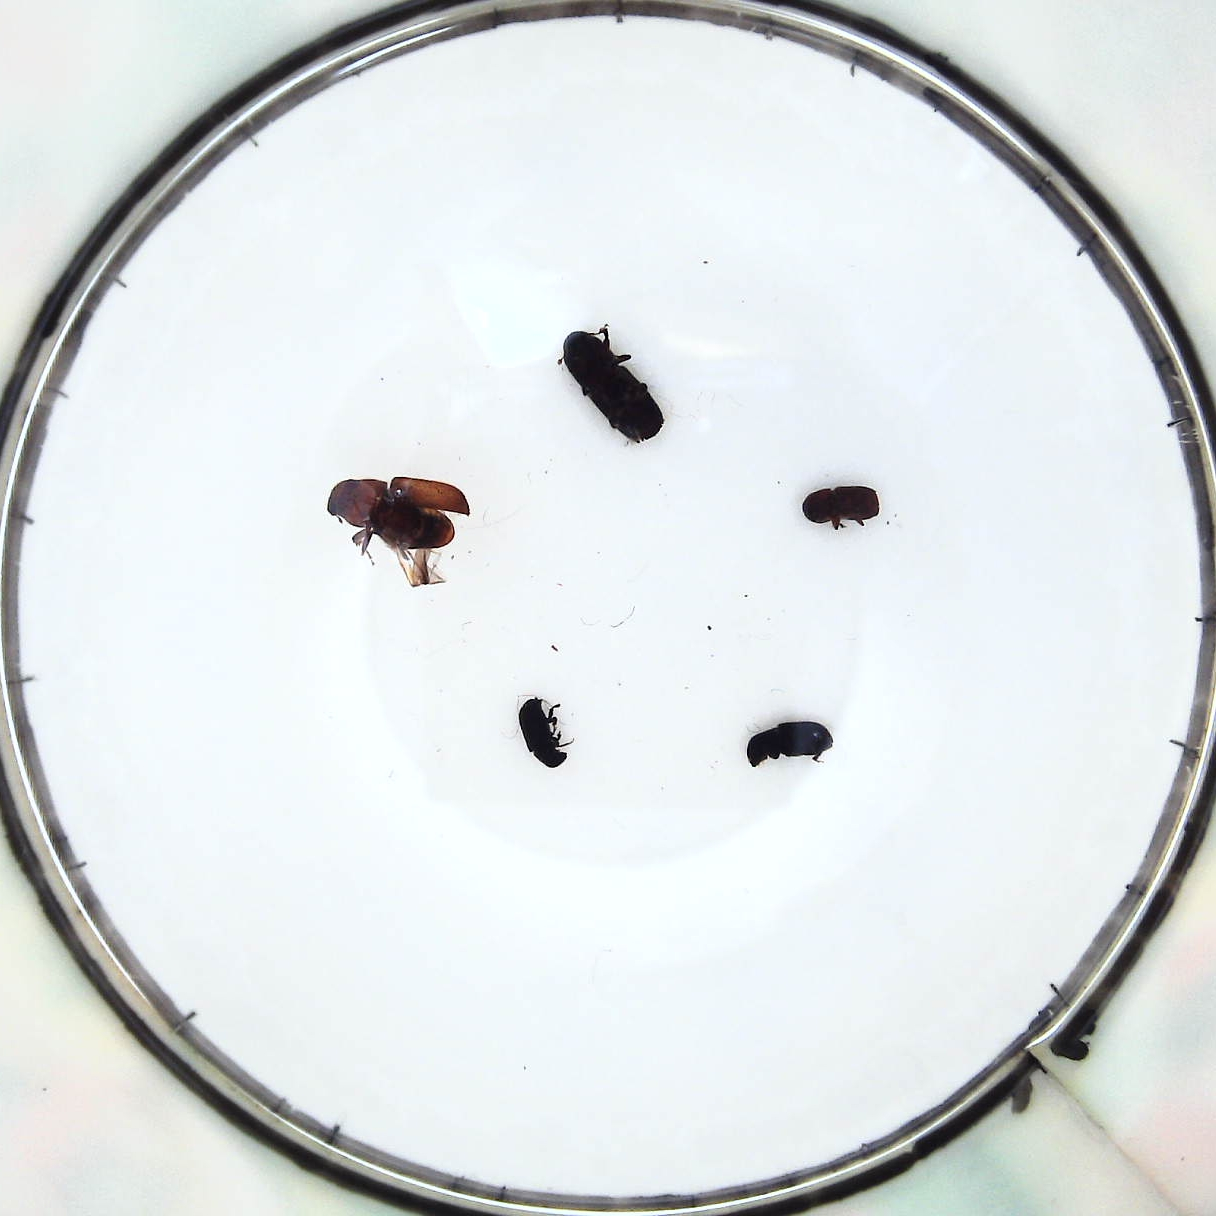Boerner: (558, 331, 665, 441)
Leconte: (333, 475, 472, 575)
Linnaeus: (800, 480, 880, 533)
armandi: (751, 719, 831, 772)
coleoptera: (516, 694, 577, 772)
